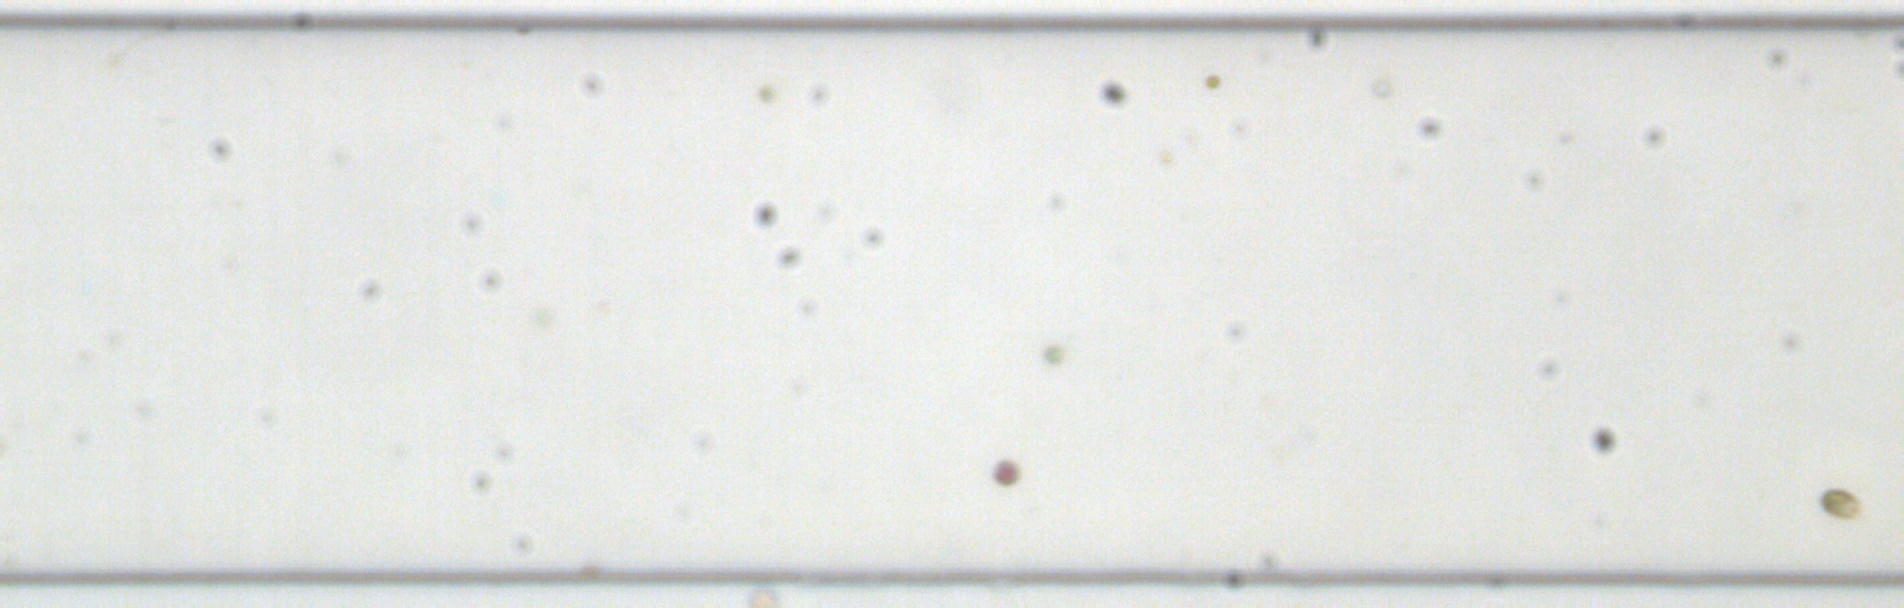Chlorella: (1042, 343, 1062, 362), (756, 85, 776, 103), (1203, 72, 1222, 89)
Dunaliella salina: (1818, 483, 1864, 523)
Porphyridium: (988, 458, 1021, 488)
